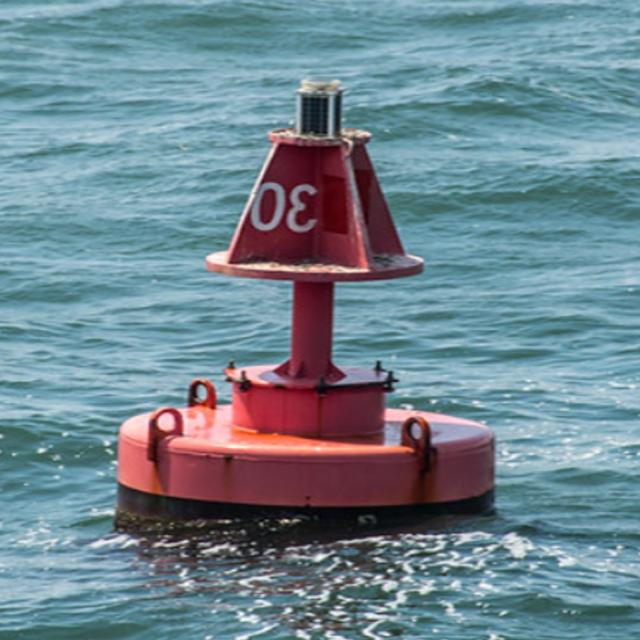buoy: (110, 73, 512, 518)
